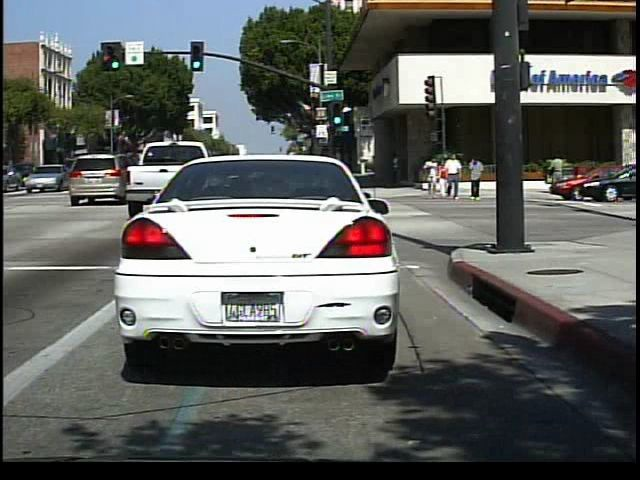person: (443, 148, 465, 201), (466, 150, 488, 200), (546, 150, 569, 195), (423, 152, 442, 200), (436, 154, 451, 203)
